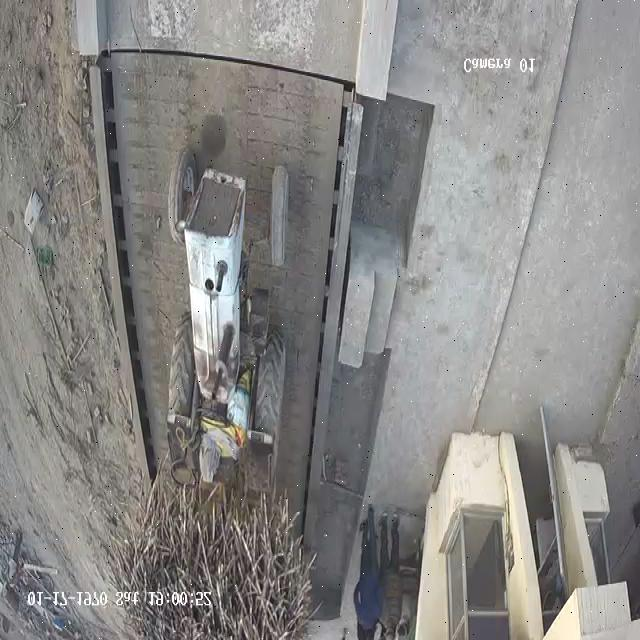Tratores - v5 YOLO V8L 2024-11-13: (162, 144, 296, 492)
